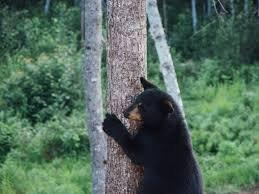bear: (101, 76, 204, 194)
